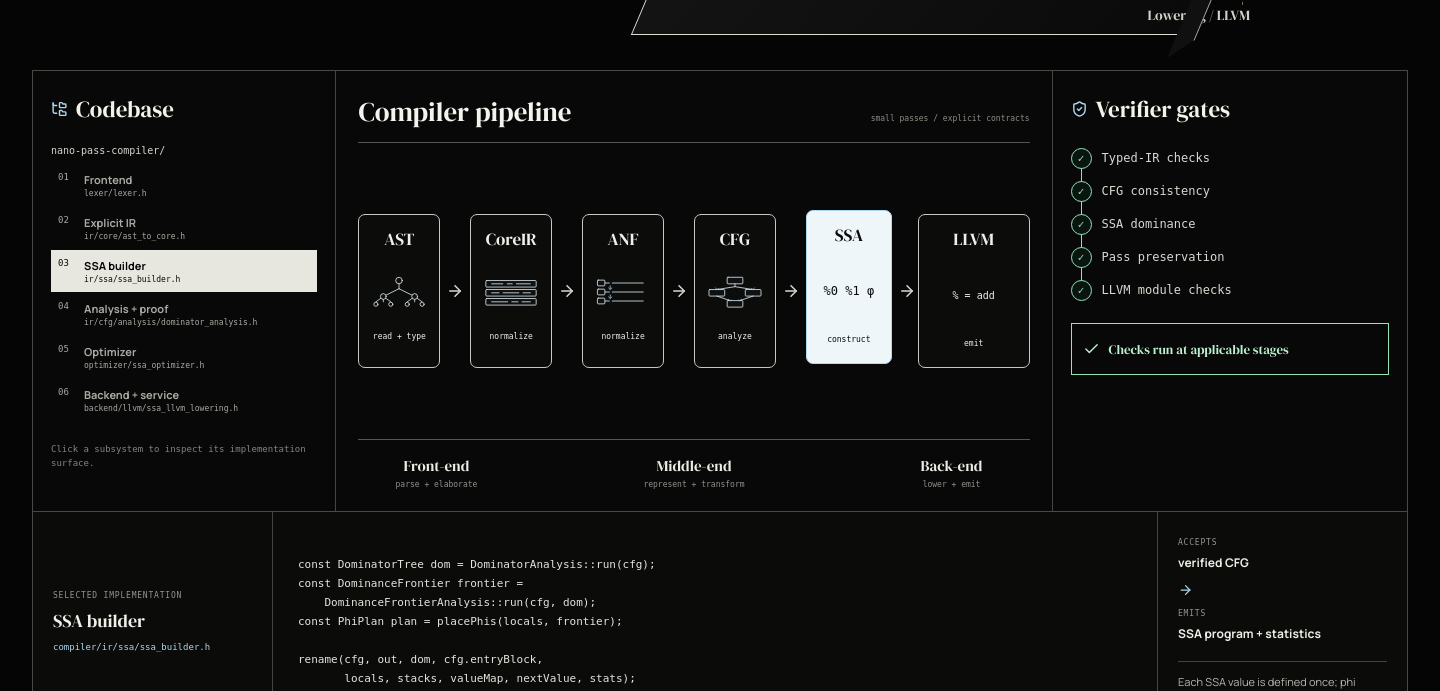
Test: BuildAtlas brief › keeps the selected implementation and pipeline artifact in sync
This screenshot has width=1440, height=691.
(page scrolled)
Expected: the text "SSA builder" below "SELECTED IMPLEMENTATION" is shown, [53,608,145,633]
Expected: the number of pictures with class "artifact-illustration" is 4, [366,274,432,310]; [478,274,544,310]; [590,274,656,310]; [702,274,768,310]
Click the button "CoreIR normalize".
click(511, 291)  # box [470,214,552,368]
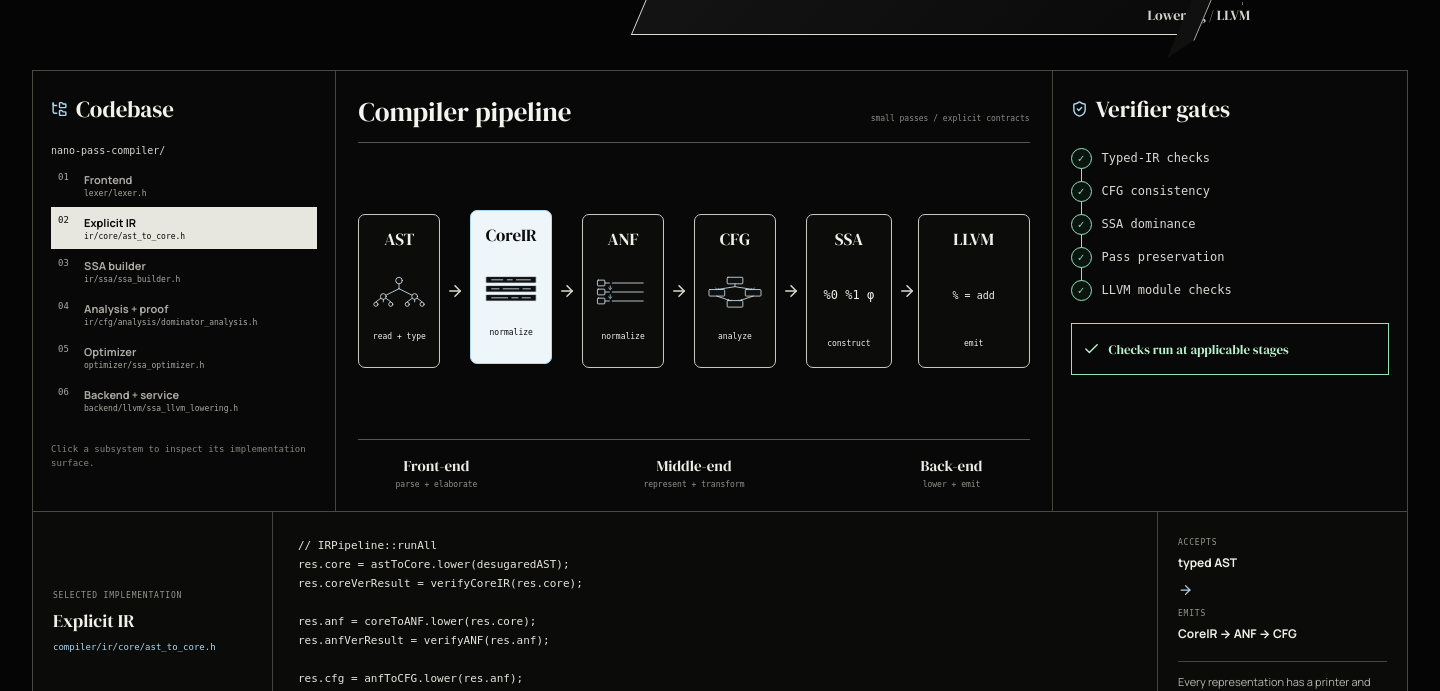
Result: the text "Explicit IR" below "SELECTED IMPLEMENTATION" is shown at [53,608,134,633]
Result: the text "compiler/ir/core/ast_to_core.h" is shown at [53,642,216,652]
